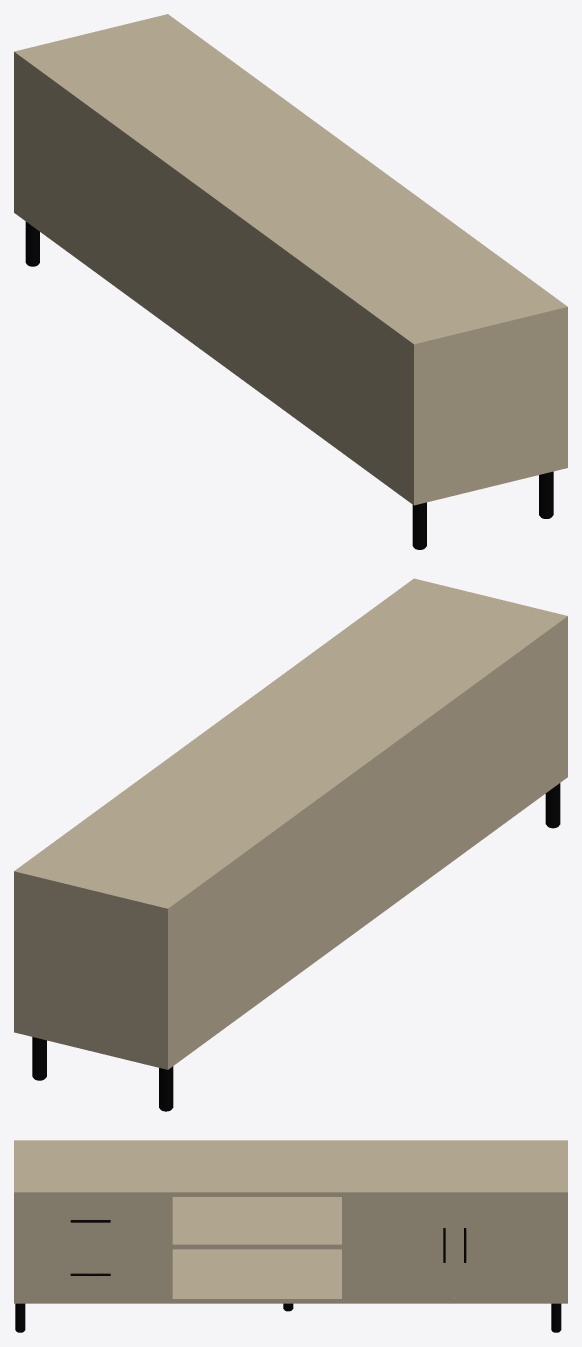
Rendered from ke-tivi.glb.
3 views of the same model, one above another, from view 1: azimuth 30°, elevation 25°; view 2: azimuth 150°, elevation 25°; view 3: azimuth 270°, elevation 25° (orthographic). The views are drawn at different scales.
Parts seen in each view (by area): view 1: MAIN, DOOR; view 2: MAIN, DOOR; view 3: MAIN, DOOR.
Part boxes in pixels (box(x1,y1,x2,y2)): MAIN: box(14, 14, 567, 505); DOOR: box(25, 221, 553, 549); MAIN: box(14, 578, 567, 1069); DOOR: box(32, 783, 560, 1111); MAIN: box(14, 1140, 567, 1303); DOOR: box(15, 1220, 561, 1332).
Bounding box in the file's own units: 0.4088 × 0.5192 × 1.8.
2 materials, 1 textured.
